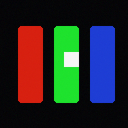1 square: (64, 52, 78, 66)
